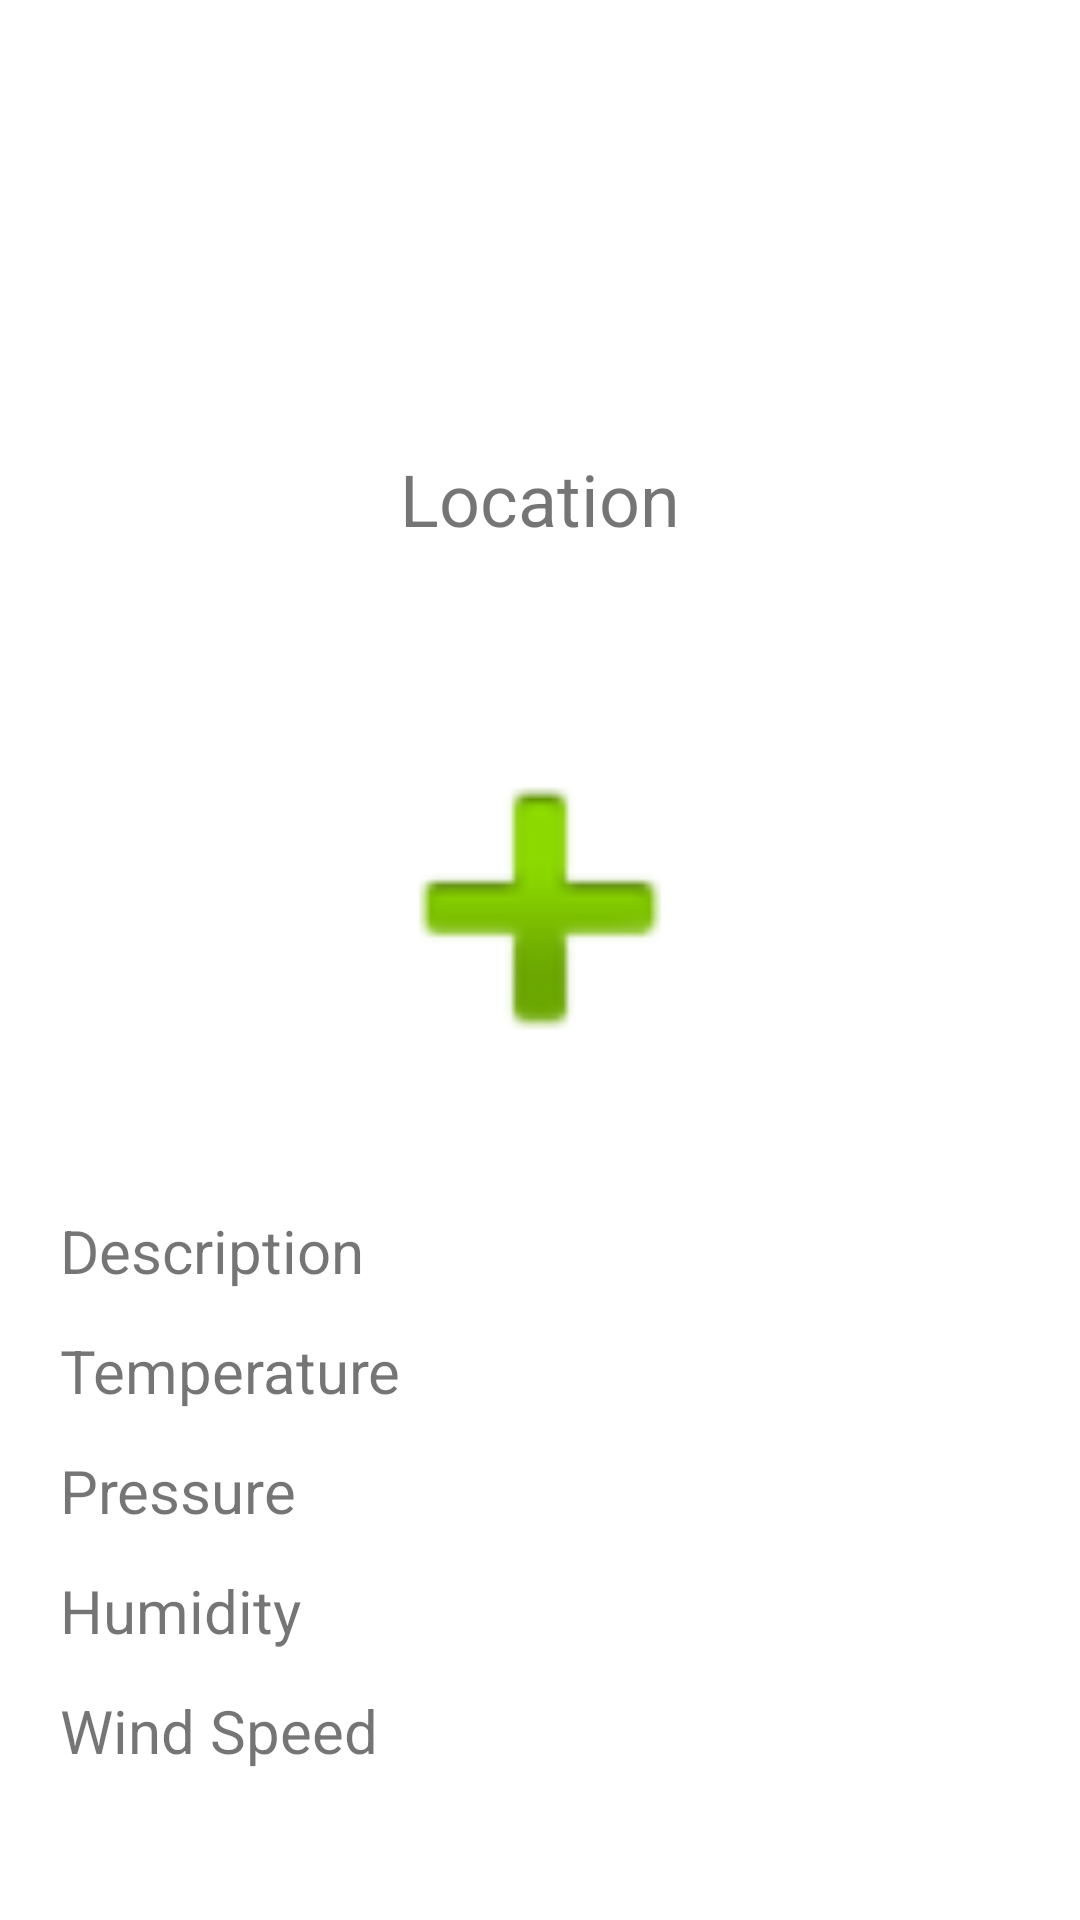

Where icons sit on this 1080 x 1920 app screen, as BBox(x1, y1, x2, y2):
add: BBox(419, 788, 661, 1029)
